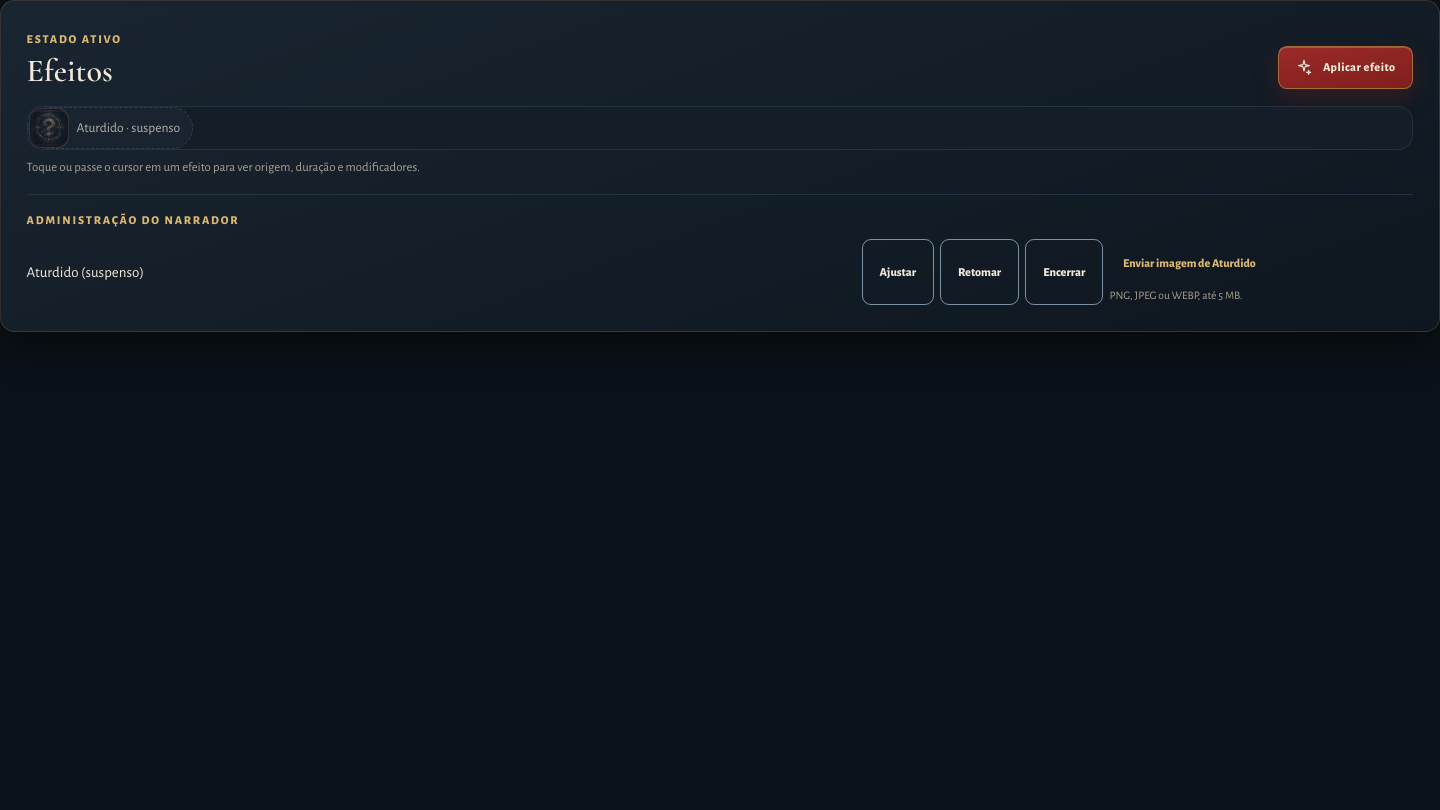
Scenario: EffectsPanel — 8.3 comandos de efeito do Narrador › Narrador retoma um efeito suspenso, com o motivo do estado inválido tratado quando o servidor recusa (409)
What coordinates should you click on to do the following:
click the button "Retomar"
I would click on:
 (980, 272)
Its box is 940,239 -> 1019,305.
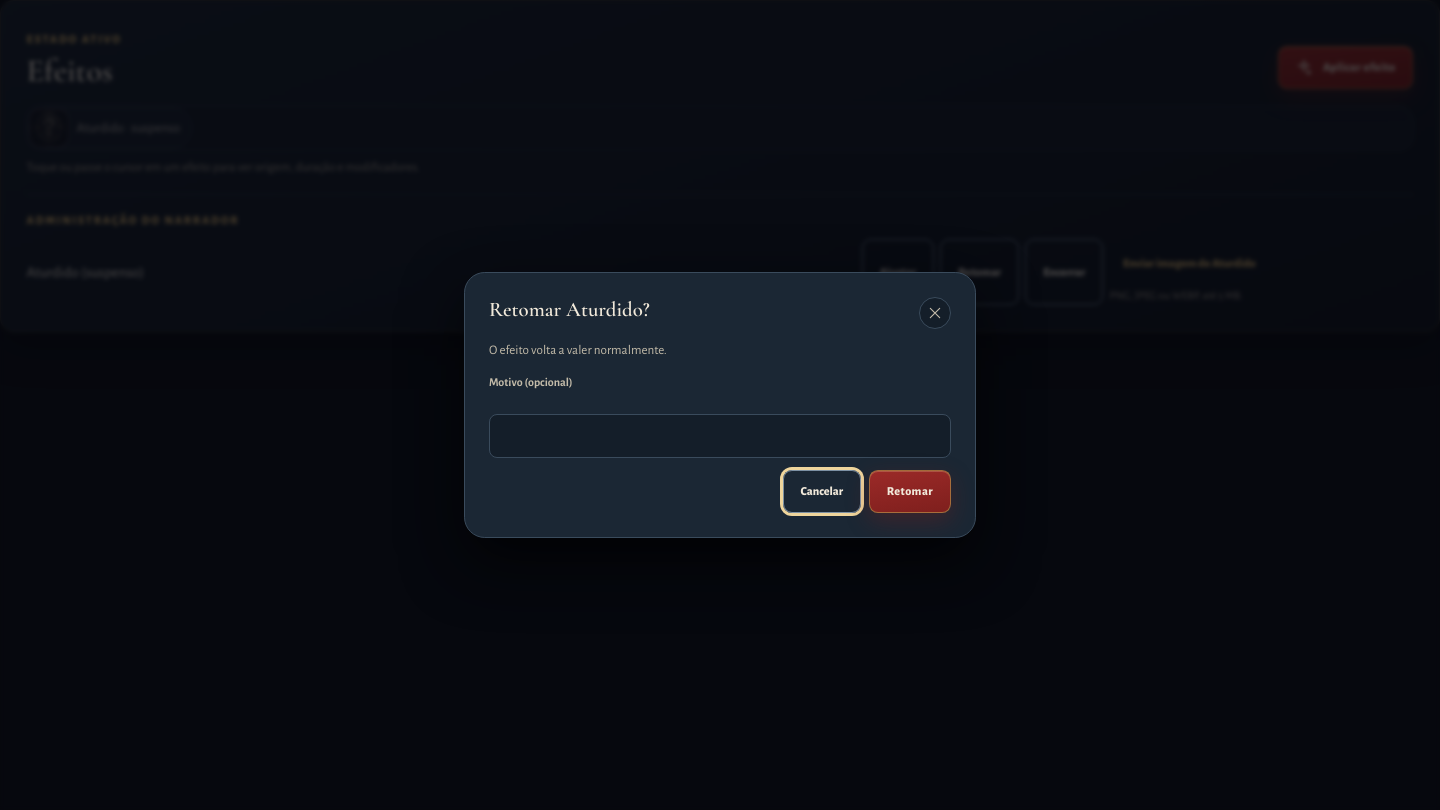
What coordinates should you click on to do the following:
click the button "Retomar"
I would click on:
 (910, 492)
Its box is 869,470 -> 951,513.
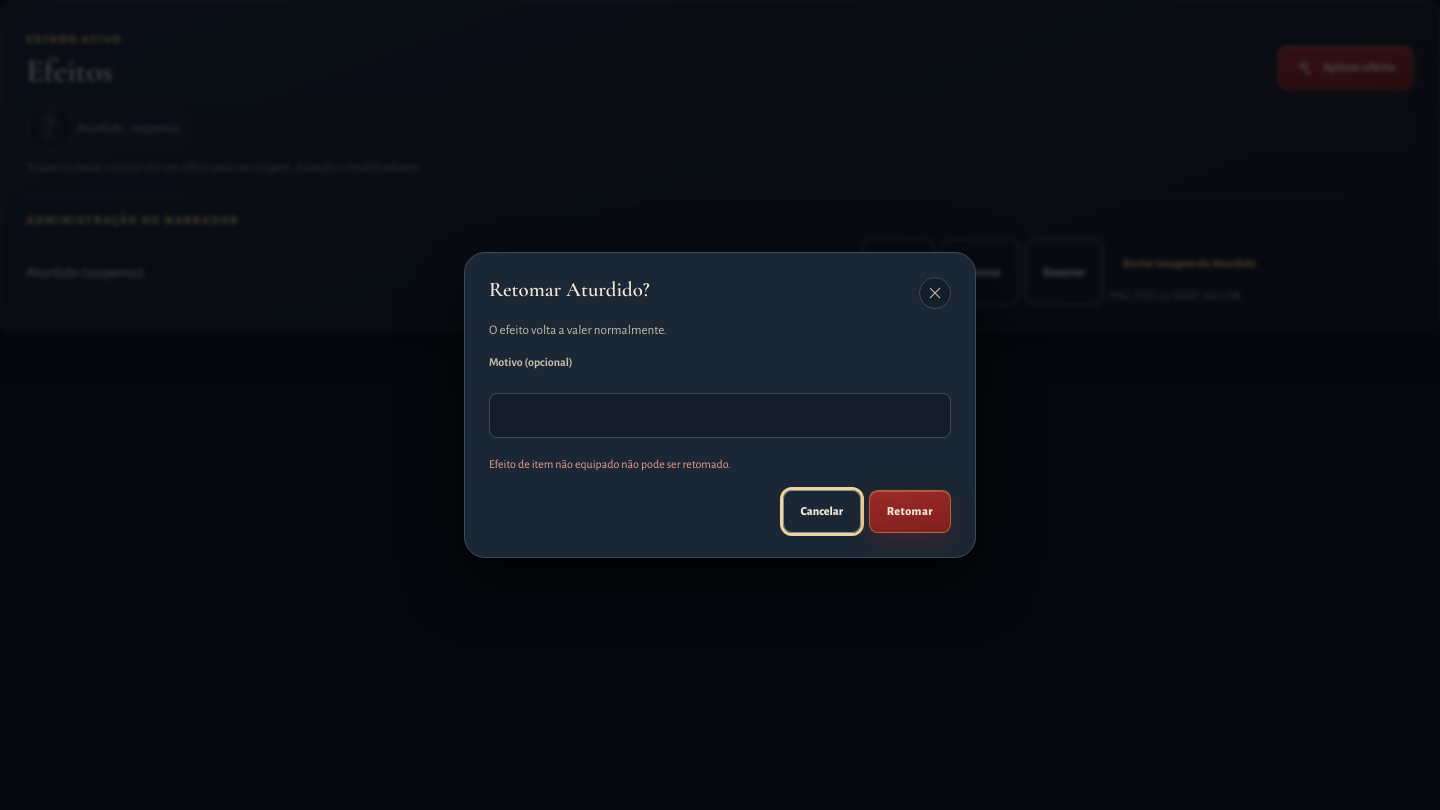
expect the text "Efeito de item não equipado não pode ser retomado." is shown: met, box 489,458 -> 731,470
